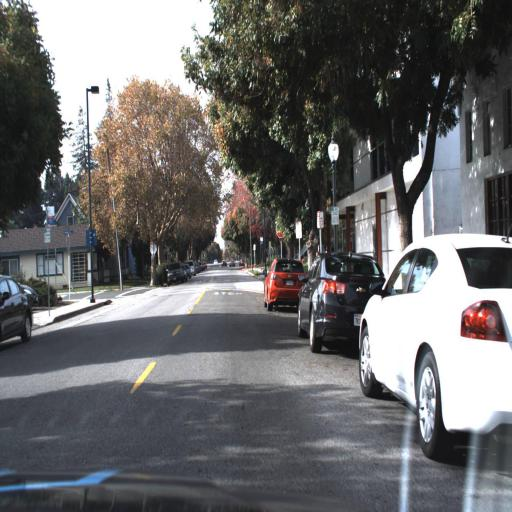car: (357, 236, 512, 462), (292, 248, 394, 354), (260, 252, 310, 318), (0, 271, 32, 352), (164, 260, 186, 286), (182, 264, 188, 284), (186, 263, 192, 279)
